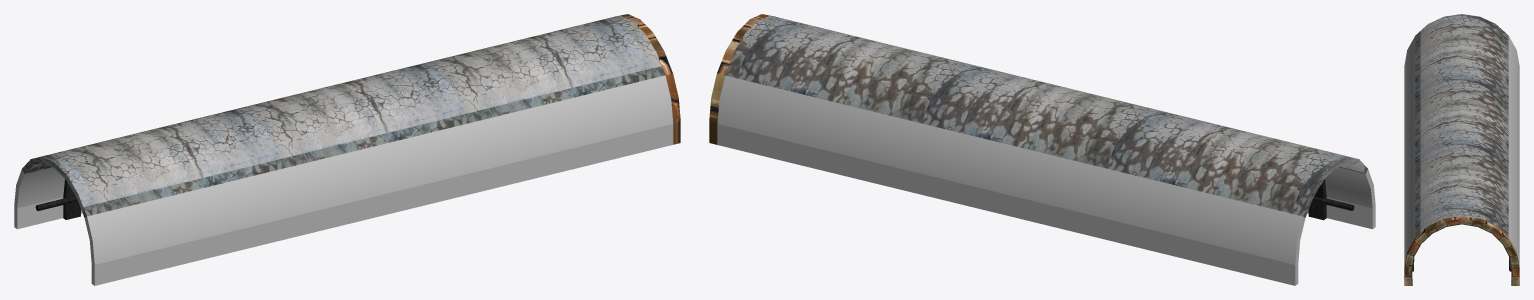
Rendered from road4_tunnel.FBX.
3 views of the same model, side by side, from view 1: azimuth 30°, elevation 25°; view 2: azimuth 150°, elevation 25°; view 3: azimuth 270°, elevation 25° (orthographic). The views are drawn at different scales.
Visible parts, largest first — view 1: Object007, Object008, Object011; view 2: Object007, Object008, Object011; view 3: Object007, Object008.
Boxes of the visible parts, bbox=[...] form: Object007: bbox=[14, 16, 673, 285]; Object008: bbox=[611, 14, 680, 144]; Object011: bbox=[63, 179, 80, 219]; Object007: bbox=[717, 16, 1375, 285]; Object008: bbox=[709, 14, 778, 144]; Object011: bbox=[1308, 179, 1326, 220]; Object007: bbox=[1404, 14, 1519, 266]; Object008: bbox=[1404, 216, 1519, 285].
Bounding box in the file's own units: 543 × 83.3 × 129.
